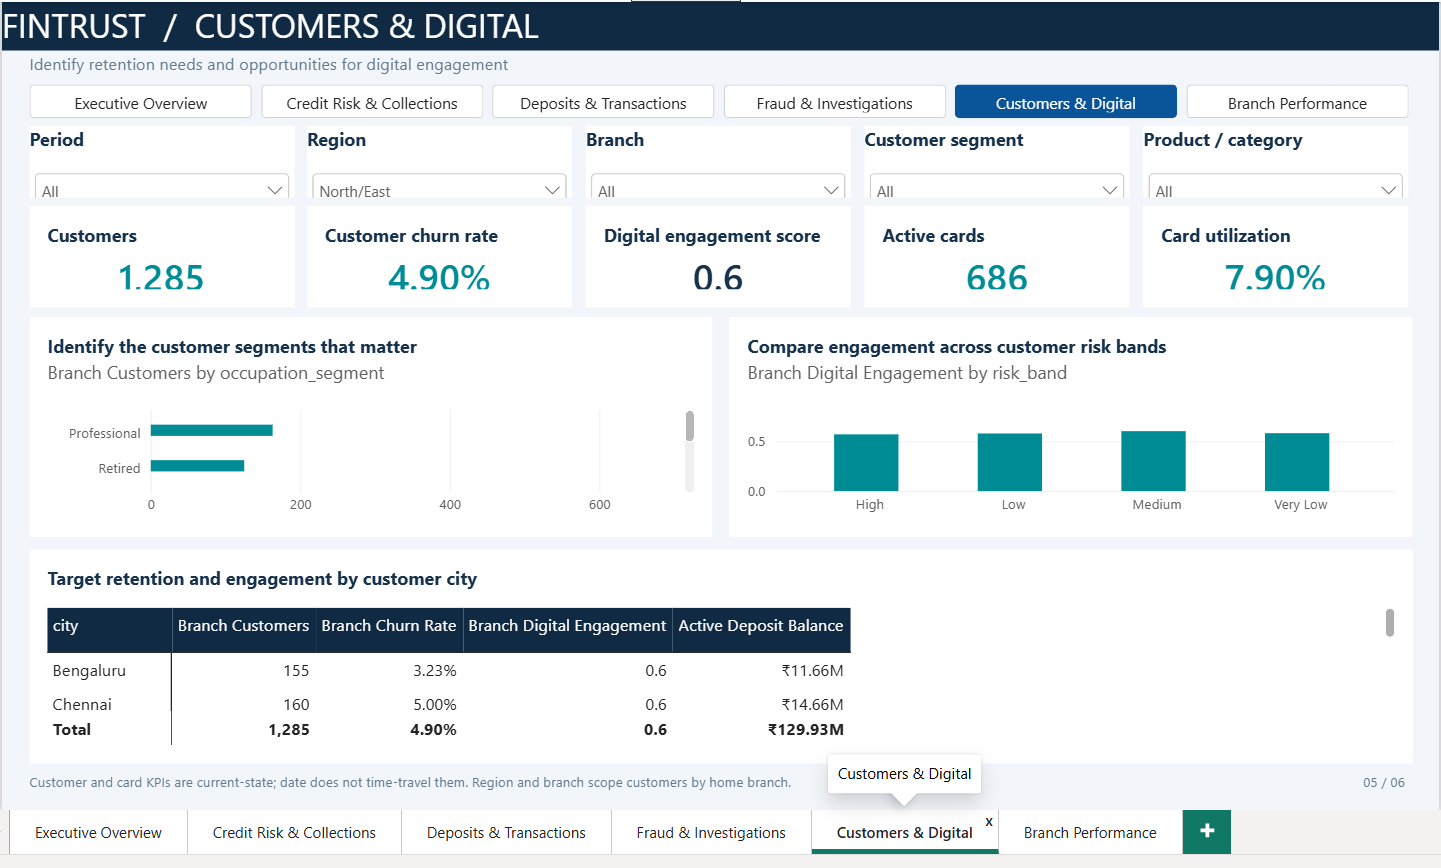

This screenshot's page, from the dashboard's own definition file:
{"tool":"powerbi","page":{"name":"Customers & Digital","canvas":[1280,720],"ordinal":4},"visuals":[{"type":"textbox","box":[0,0,1280,43],"z":18},{"type":"textbox","box":[24,45,1232,26],"z":18},{"type":"pageNavigator","box":[24,74,1232,30],"z":18},{"type":"slicer","title":"Period","fields":{"Values":["Date.Year Month"]},"box":[24,110,236,64],"z":18},{"type":"slicer","title":"Region","fields":{"Values":["branches.region"]},"box":[272,110,236,64],"z":18},{"type":"slicer","title":"Branch","fields":{"Values":["branches.branch_name"]},"box":[520,110,236,64],"z":18},{"type":"slicer","title":"Customer segment","fields":{"Values":["customers.occupation_segment"]},"box":[768,110,236,64],"z":18},{"type":"slicer","title":"Product / category","fields":{"Values":["customers.risk_band"]},"box":[1016,110,236,64],"z":18},{"type":"card","title":"Customers","fields":{"Values":["customers.Branch Customers"]},"box":[24,182,236,90],"z":18},{"type":"card","title":"Customer churn rate","fields":{"Values":["customers.Branch Churn Rate"]},"box":[272,182,236,90],"z":18},{"type":"card","title":"Digital engagement score","fields":{"Values":["customers.Branch Digital Engagement"]},"box":[520,182,236,90],"z":18},{"type":"card","title":"Active cards","fields":{"Values":["cards.Branch Active Cards"]},"box":[768,182,236,90],"z":18},{"type":"card","title":"Card utilization","fields":{"Values":["cards.Branch Card Utilization"]},"box":[1016,182,236,90],"z":18},{"type":"clusteredBarChart","title":"Identify the customer segments that matter","fields":{"Category":["customers.occupation_segment"],"Y":["customers.Branch Customers"]},"box":[24,280,608,196],"z":18},{"type":"clusteredColumnChart","title":"Compare engagement across customer risk bands","fields":{"Category":["customers.risk_band"],"Y":["customers.Branch Digital Engagement"]},"box":[648,280,608,196],"z":18},{"type":"pivotTable","title":"Target retention and engagement by customer city","fields":{"Rows":["customers.city"],"Values":["customers.Branch Customers","customers.Branch Churn Rate","customers.Branch Digital Engagement","accounts.Active Deposit Balance"]},"box":[24,488,1232,190],"z":18},{"type":"textbox","box":[24,684,1190,30],"z":18},{"type":"textbox","box":[1212,684,60,30],"z":18}]}

Visuals, with their boxes on the page's 1280x720 design canvas (x1, y1, x2, y2). These are canvas units, not pixel positions in the 1441x868 screenshot, which may show the page scaled, cropped or inside an application window:
textbox: select_region(0, 0, 1280, 43)
textbox: select_region(24, 45, 1256, 71)
pageNavigator: select_region(24, 74, 1256, 104)
"Period" slicer: select_region(24, 110, 260, 174)
"Region" slicer: select_region(272, 110, 508, 174)
"Branch" slicer: select_region(520, 110, 756, 174)
"Customer segment" slicer: select_region(768, 110, 1004, 174)
"Product / category" slicer: select_region(1016, 110, 1252, 174)
"Customers" card: select_region(24, 182, 260, 272)
"Customer churn rate" card: select_region(272, 182, 508, 272)
"Digital engagement score" card: select_region(520, 182, 756, 272)
"Active cards" card: select_region(768, 182, 1004, 272)
"Card utilization" card: select_region(1016, 182, 1252, 272)
"Identify the customer segments that matter" clusteredBarChart: select_region(24, 280, 632, 476)
"Compare engagement across customer risk bands" clusteredColumnChart: select_region(648, 280, 1256, 476)
"Target retention and engagement by customer city" pivotTable: select_region(24, 488, 1256, 678)
textbox: select_region(24, 684, 1214, 714)
textbox: select_region(1212, 684, 1272, 714)
